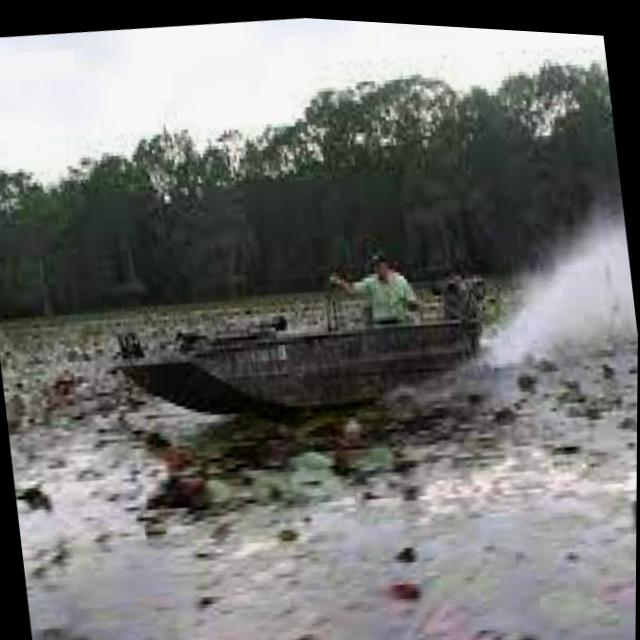ship2: (117, 255, 484, 412)
